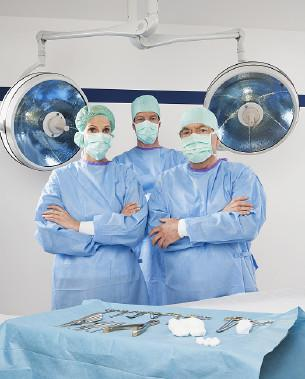OK: (177, 123, 218, 164), (81, 121, 117, 157), (133, 113, 165, 145)
